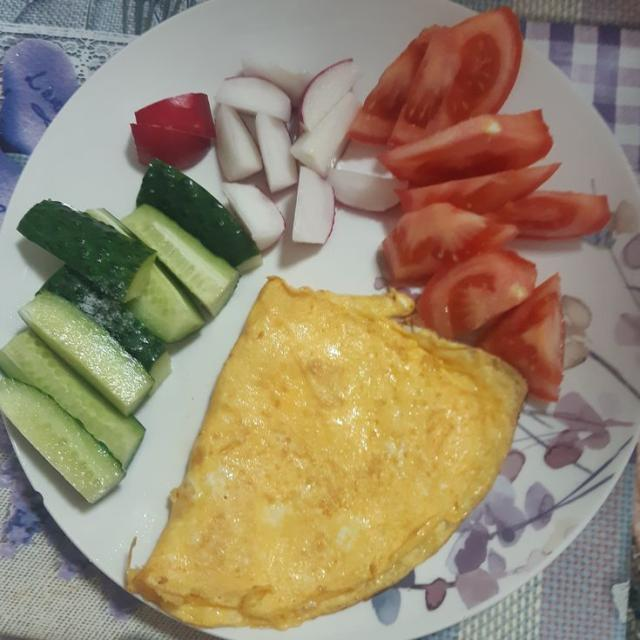omelette: (128, 278, 525, 628)
